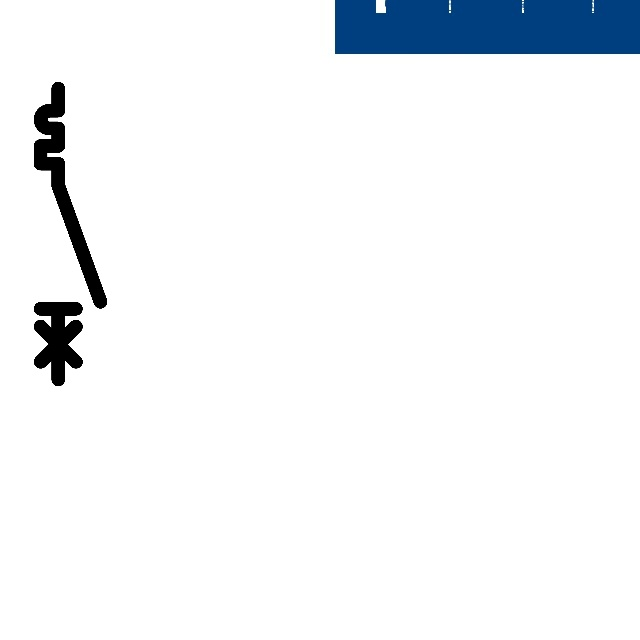interruptor_termomagnetico: (33, 81, 108, 387)
